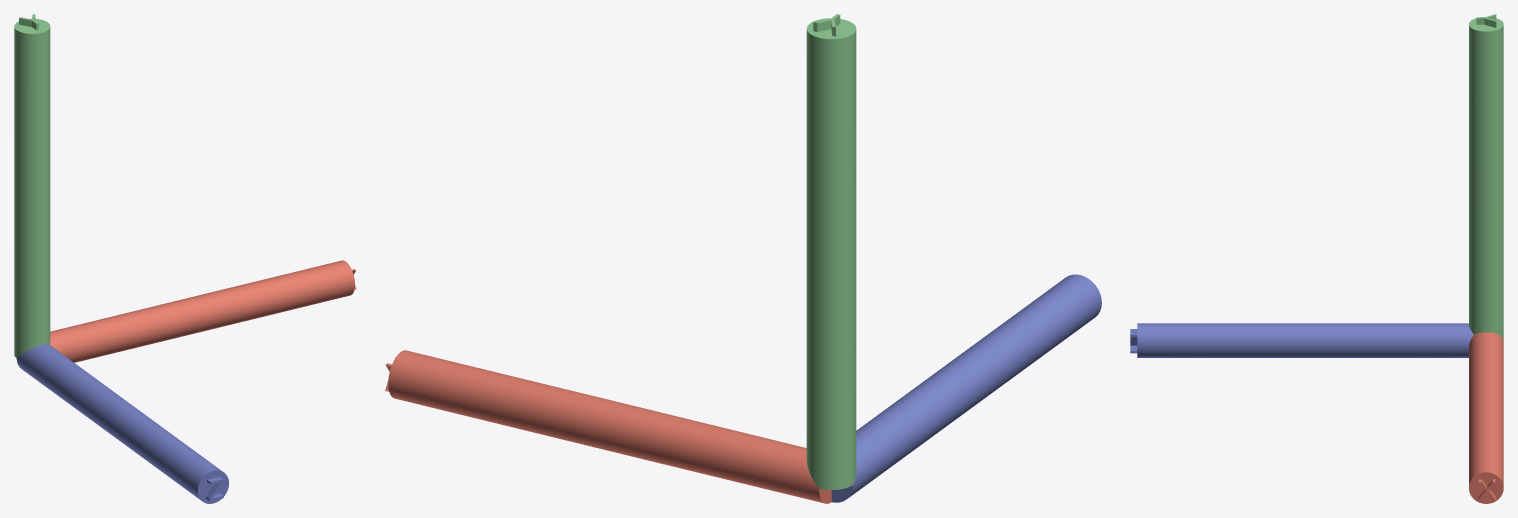
Rendered from Axis.glb.
3 renders of one model, left to right at view 1: azimuth 30°, elevation 25°; view 2: azimuth 150°, elevation 25°; view 3: azimuth 270°, elevation 25°, orthographic. The views are drawn at different scales.
Bounding box in the file's own units: 0.0535 × 0.0535 × 0.0535.
